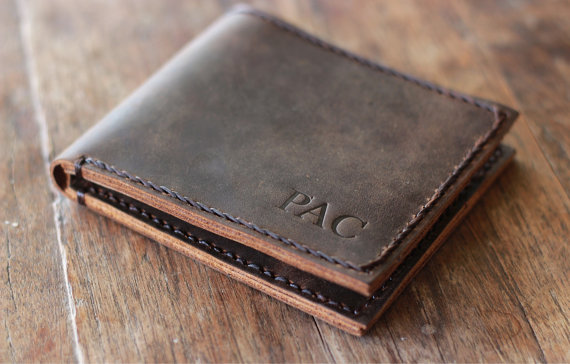monedero: (48, 4, 523, 341)
